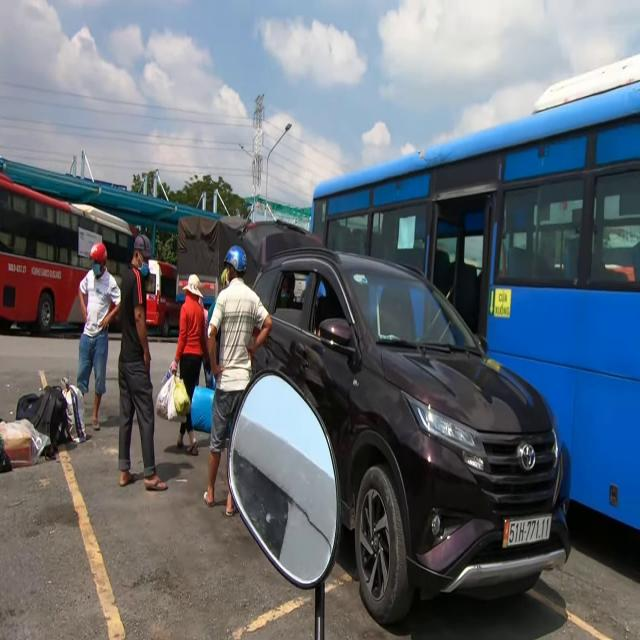bien_trang: (502, 513, 553, 551)
